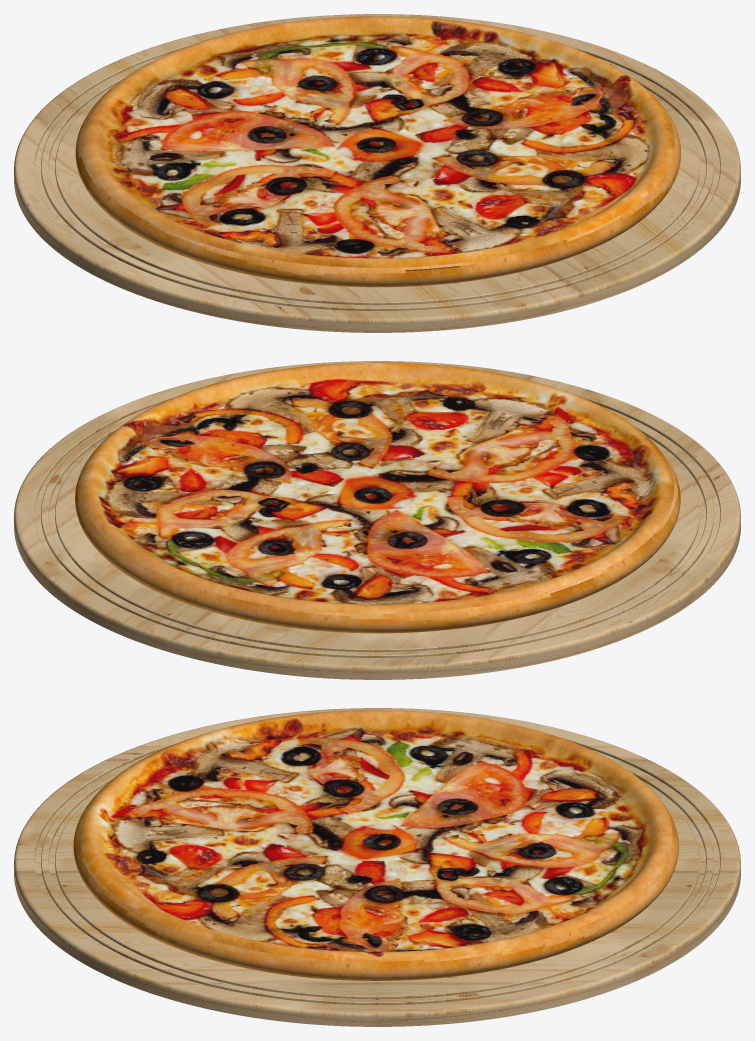
The model's file is pizza.glb.
3 renders of one model, top to bottom at view 1: azimuth 30°, elevation 25°; view 2: azimuth 150°, elevation 25°; view 3: azimuth 270°, elevation 25°, orthographic.
Parts seen in each view (by area): view 1: pizza, board; view 2: pizza, board; view 3: pizza, board.
Boxes of the visible parts, x1,y1,x2,y2 form: pizza: [75, 16, 681, 287]; board: [14, 14, 740, 332]; pizza: [75, 362, 680, 633]; board: [14, 361, 740, 679]; pizza: [73, 710, 678, 980]; board: [14, 708, 740, 1026].
Bounding box in the file's own units: 3.02 × 0.1895 × 3.02.
2 materials, 2 textured.
